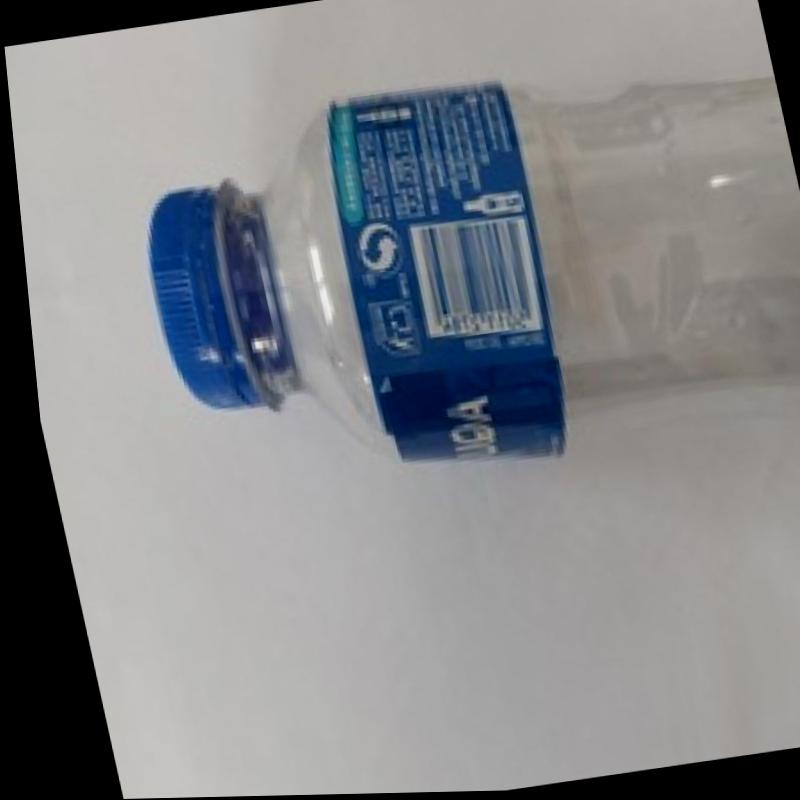botella: (108, 38, 800, 512)
